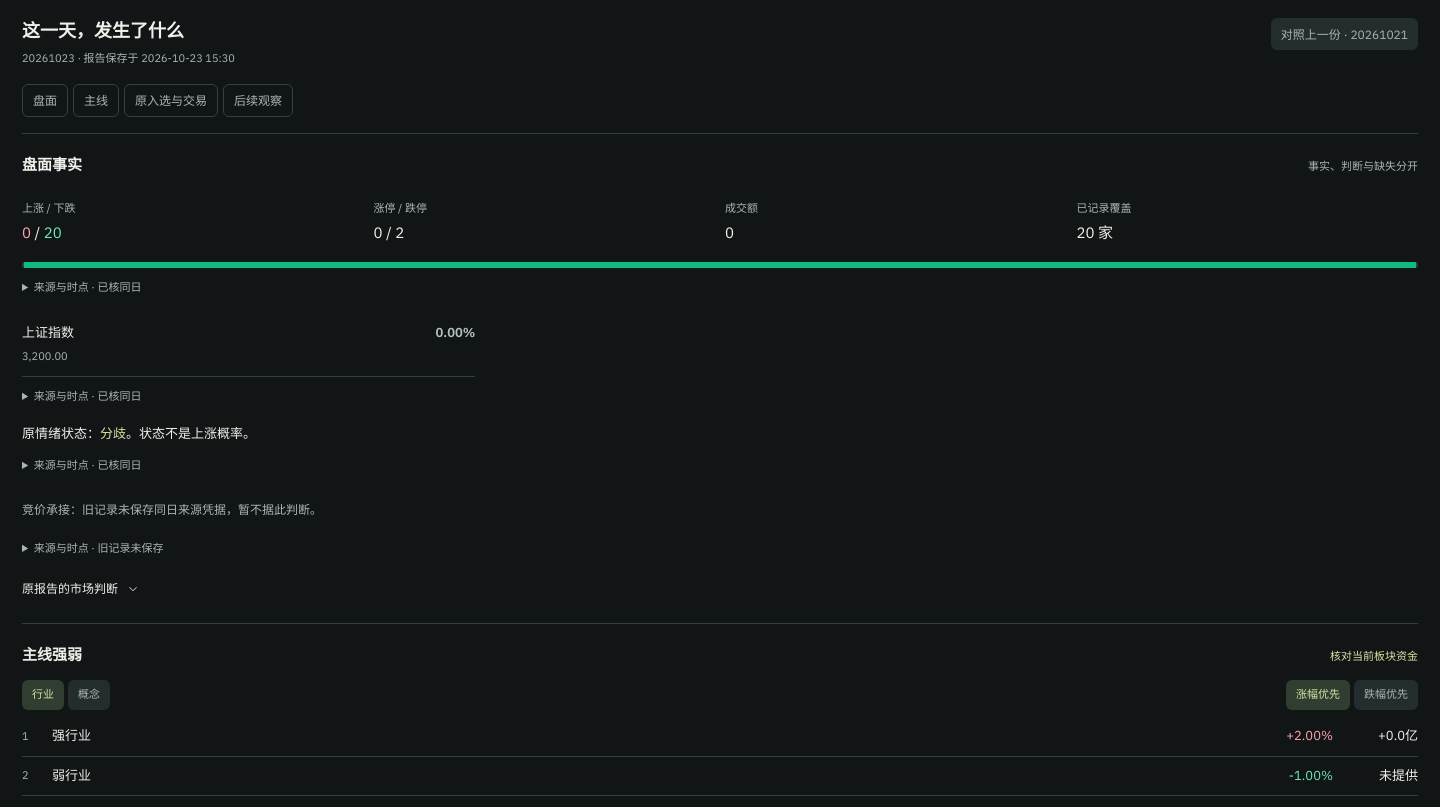
market review dated evidence › compares independently date-bound reports without inventing a consecutive trading day
The image size is (1440, 807).
Step 1. Click the button "对照上一份 · 20261021" → click(1344, 34), box [1271,18,1418,50]
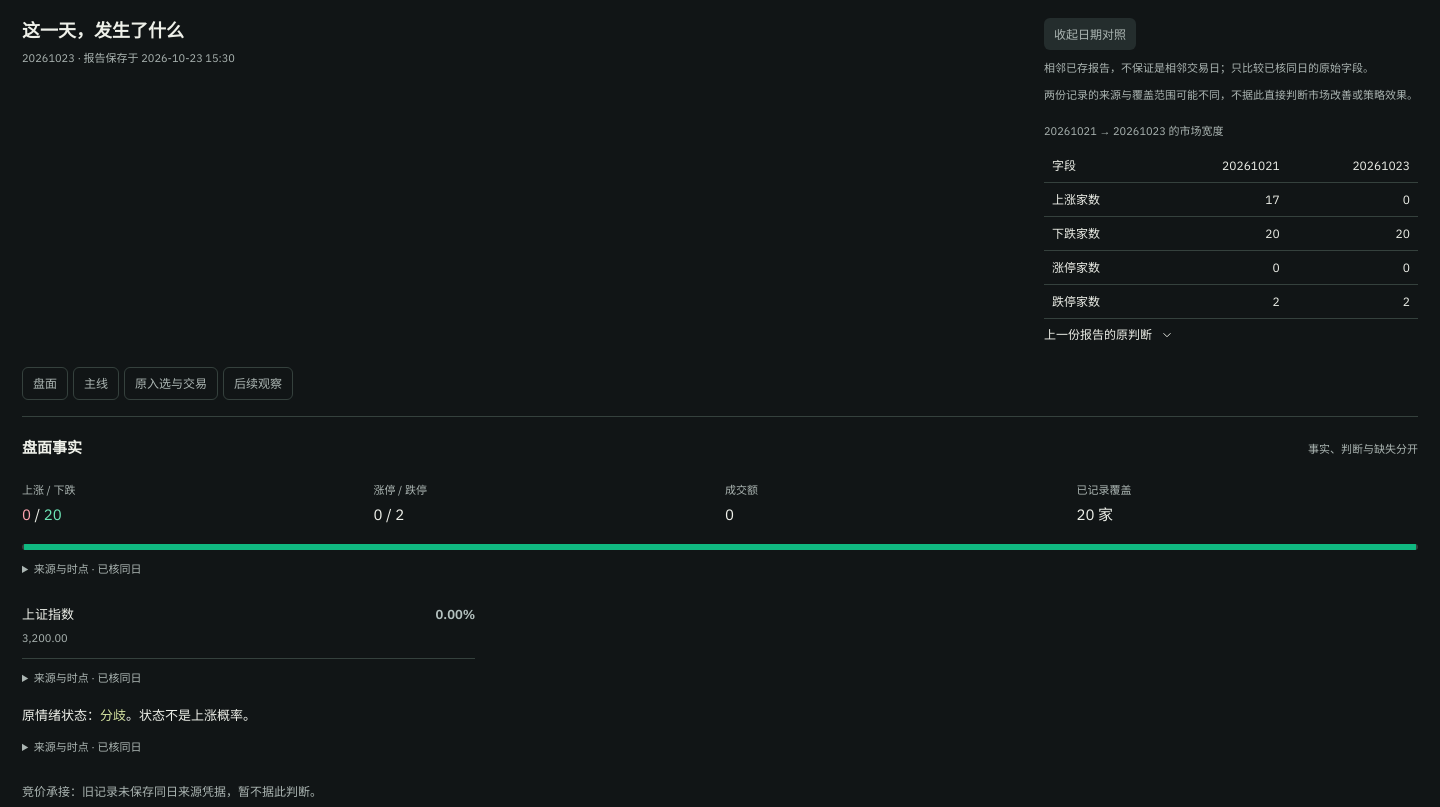
Now the text "17" is shown, box [1157,182,1288,216]
Now the text "相邻已存报告，不保证是相邻交易日；只比较已核同日的原始字段。" is shown, box [1044,59,1418,78]
